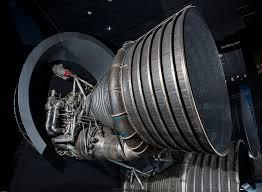thruster: (116, 2, 236, 158), (181, 140, 254, 192)
